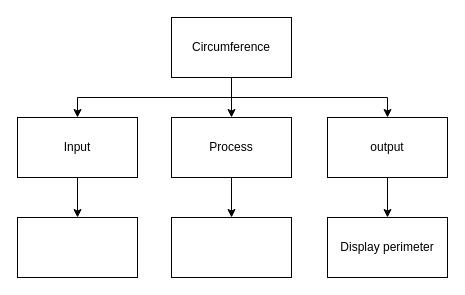
The diagram is 465 pixels wide and 295 high, and some of its shapes have lost their labels. Here are the shapes that lost their labels. From the top down, the centre of each, then its label:
(x=77, y=247): Get side_length
(x=231, y=247): calculate perimeter
